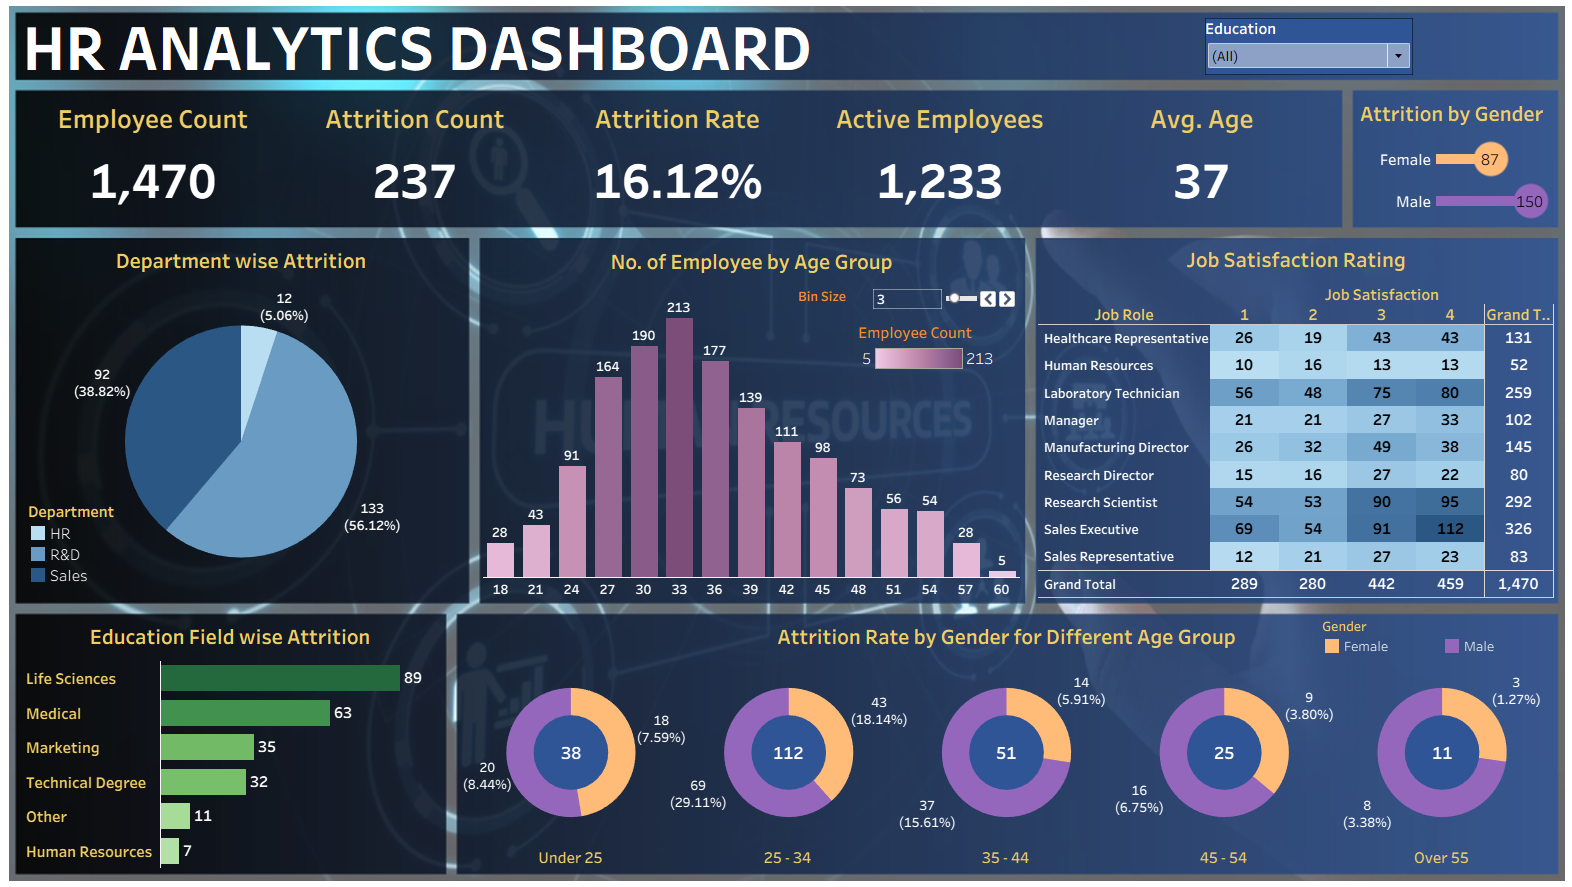

Layout of this report page (visuals, bound fields, positions):
{"tool":"tableau","page":{"name":"HR Analytics Dashboard","canvas":[1000,1000],"units":"permille","ordinal":0},"visuals":[{"type":"image","param":"Image/HR background.pptx.png","box":[5.1,8.9,989.9,982.2]},{"type":"text","box":[13.9,22.2,505.1,70]},{"type":"filter","title":"Department wise Attrition","param":"[federated.0b6huxd17vo8pq1cqcq9d1r84bjv].[none:Education:nk]","box":[764.6,26.7,131.7,63.3]},{"type":"worksheet","title":"KPI","mark":"Automatic","box":[15.8,112.2,829.8,141.1]},{"type":"worksheet","title":"Attrition by Gender","mark":"Automatic","rows":["Gender"],"cols":["Calculation_0835650908532736","Calculation_0835650908532736"],"box":[860.1,112.2,124.7,141.1]},{"type":"worksheet","title":"Job Satisfaction Rating","mark":"Square","rows":["Job Role"],"cols":["Job Satisfaction"],"box":[658.9,274.4,326.6,396.7]},{"type":"worksheet","title":"Department wise Attrition","mark":"Pie","box":[13.9,275.6,281,395.6]},{"type":"worksheet","title":"No. of Employee by Age Group","mark":"Automatic","rows":["Employee Count"],"cols":["Age (bin)"],"box":[307.6,276.7,339.9,395.6]},{"type":"parameter","param":"[Parameters].[Parameter 1787828246274048]","box":[507,324.4,139.2,26.7]},{"type":"legend","title":"No. of Employee by Age Group","param":"[federated.0b6huxd17vo8pq1cqcq9d1r84bjv].[sum:Employee Count:qk]","box":[544.9,364.4,88.6,53.3]},{"type":"legend","title":"Department wise Attrition","param":"[federated.0b6huxd17vo8pq1cqcq9d1r84bjv].[none:Department:nk]","box":[19.6,563.3,69.6,105.6]},{"type":"legend","title":"Attrition Rate by Gender for Different Age Group","param":"[federated.0b6huxd17vo8pq1cqcq9d1r84bjv].[none:Gender:nk]","box":[838.6,692.2,163.9,55.6]},{"type":"worksheet","title":"Education Field wise Attrition","mark":"Automatic","rows":["Education Field"],"cols":["Calculation_0835650908532736"],"box":[14.6,693.3,265.8,277.8]},{"type":"worksheet","title":"Attrition Rate by Gender for Different Age Group","mark":"Pie","rows":["Calculation_1787828285587459","Calculation_1787828285587459"],"cols":["CF_age band"],"box":[294.3,693.3,689.2,278.9]}]}

Visuals, with their boxes on the dashboard's canvas, which has no fixed pixel size, in thousandths of its width and height (x1, y1, x2, y2). These are canvas units, not pixel positions in the 1572x887 screenshot, which may show the page scaled, cropped or inside an application window:
image: select_region(5, 9, 995, 991)
text: select_region(14, 22, 519, 92)
"Department wise Attrition" filter: select_region(765, 27, 896, 90)
"KPI" worksheet: select_region(16, 112, 846, 253)
"Attrition by Gender" worksheet: select_region(860, 112, 985, 253)
"Job Satisfaction Rating" worksheet (Square marks): select_region(659, 274, 986, 671)
"Department wise Attrition" worksheet (Pie marks): select_region(14, 276, 295, 671)
"No. of Employee by Age Group" worksheet: select_region(308, 277, 648, 672)
parameter: select_region(507, 324, 646, 351)
"No. of Employee by Age Group" legend: select_region(545, 364, 634, 418)
"Department wise Attrition" legend: select_region(20, 563, 89, 669)
"Attrition Rate by Gender for Different Age Group" legend: select_region(839, 692, 1002, 748)
"Education Field wise Attrition" worksheet: select_region(15, 693, 280, 971)
"Attrition Rate by Gender for Different Age Group" worksheet (Pie marks): select_region(294, 693, 984, 972)
